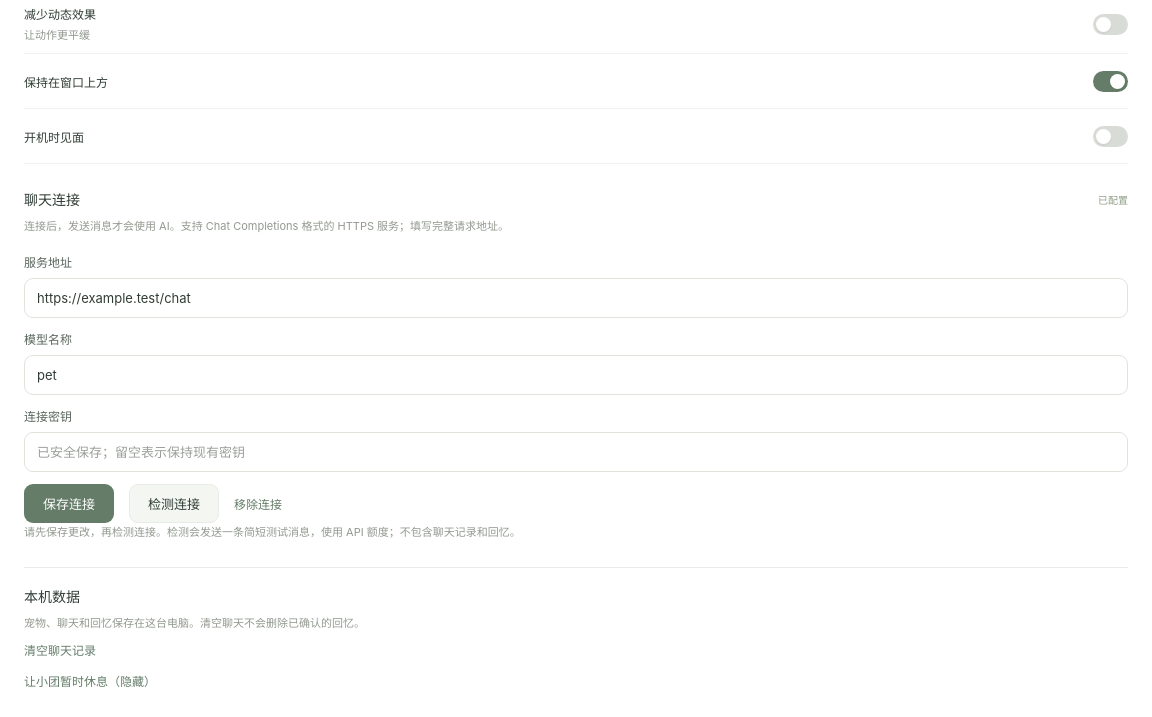
shows the saved connection check result and keeps configuration fields intact
(page scrolled)
Click the button "检测连接" at (174, 504), box left=129, top=484, right=219, bottom=523
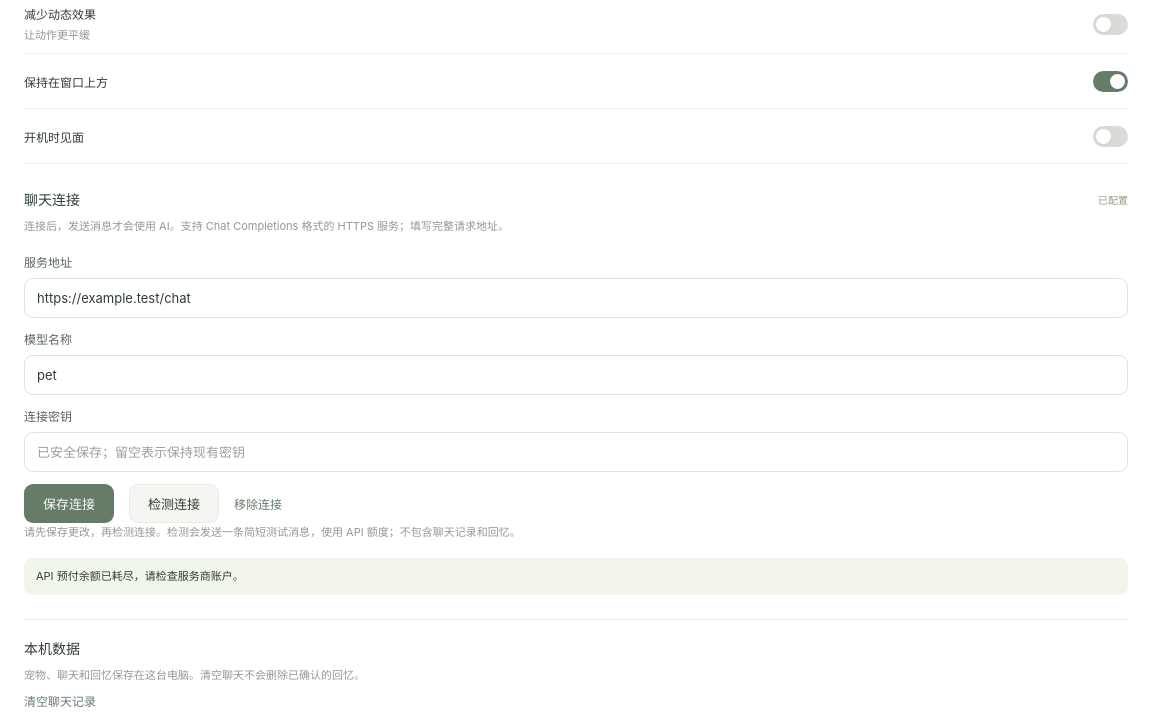
Expected: the field labelled "服务地址" holds "https://example.test/chat", left=24, top=278, right=1128, bottom=318
Result: the text "API 预付余额已耗尽，请检查服务商账户。" is shown at left=24, top=558, right=1128, bottom=595
